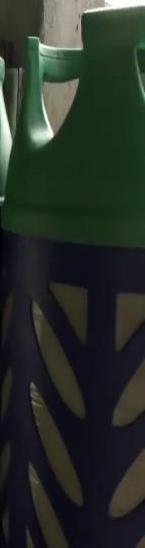cylinder: (1, 1, 145, 548)
